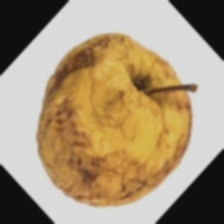apple: (27, 18, 217, 207)
